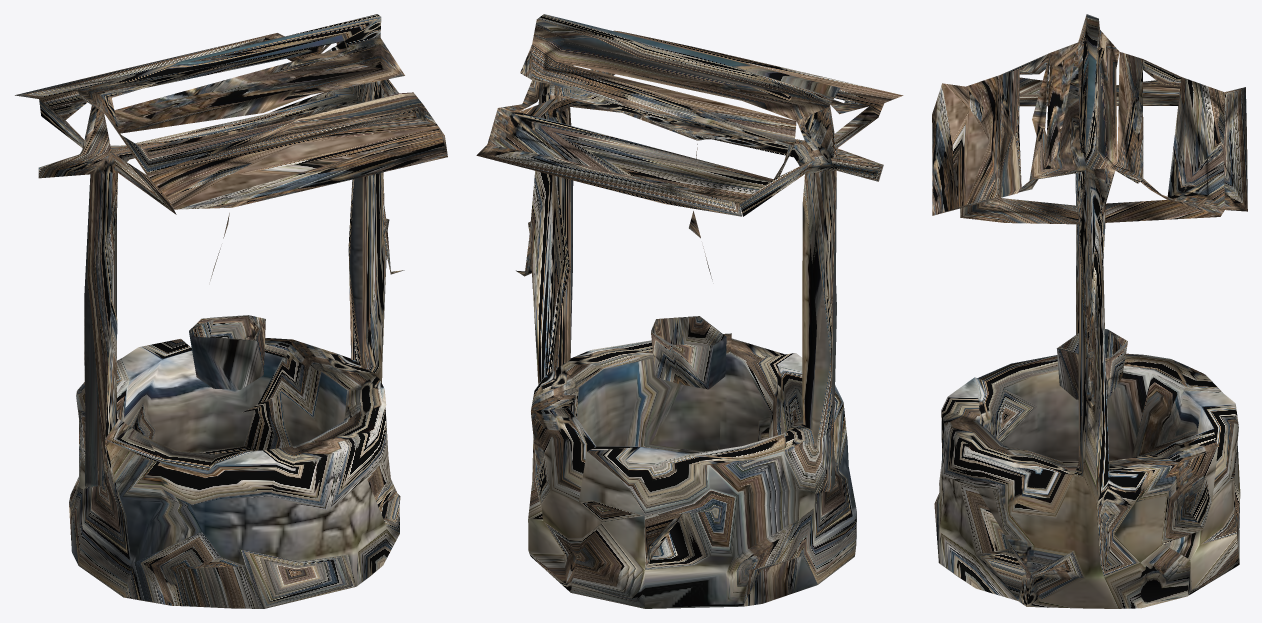
File: meshy_well_stone_roofed_lod1.glb
The picture shows the model from 3 angles, left to right: view 1: azimuth 30°, elevation 25°; view 2: azimuth 150°, elevation 25°; view 3: azimuth 270°, elevation 25°; orthographic projection. The views are drawn at different scales.
Size of the model in its own units: 2.63 by 3.4 by 2.09.
1 material, 1 textured.
